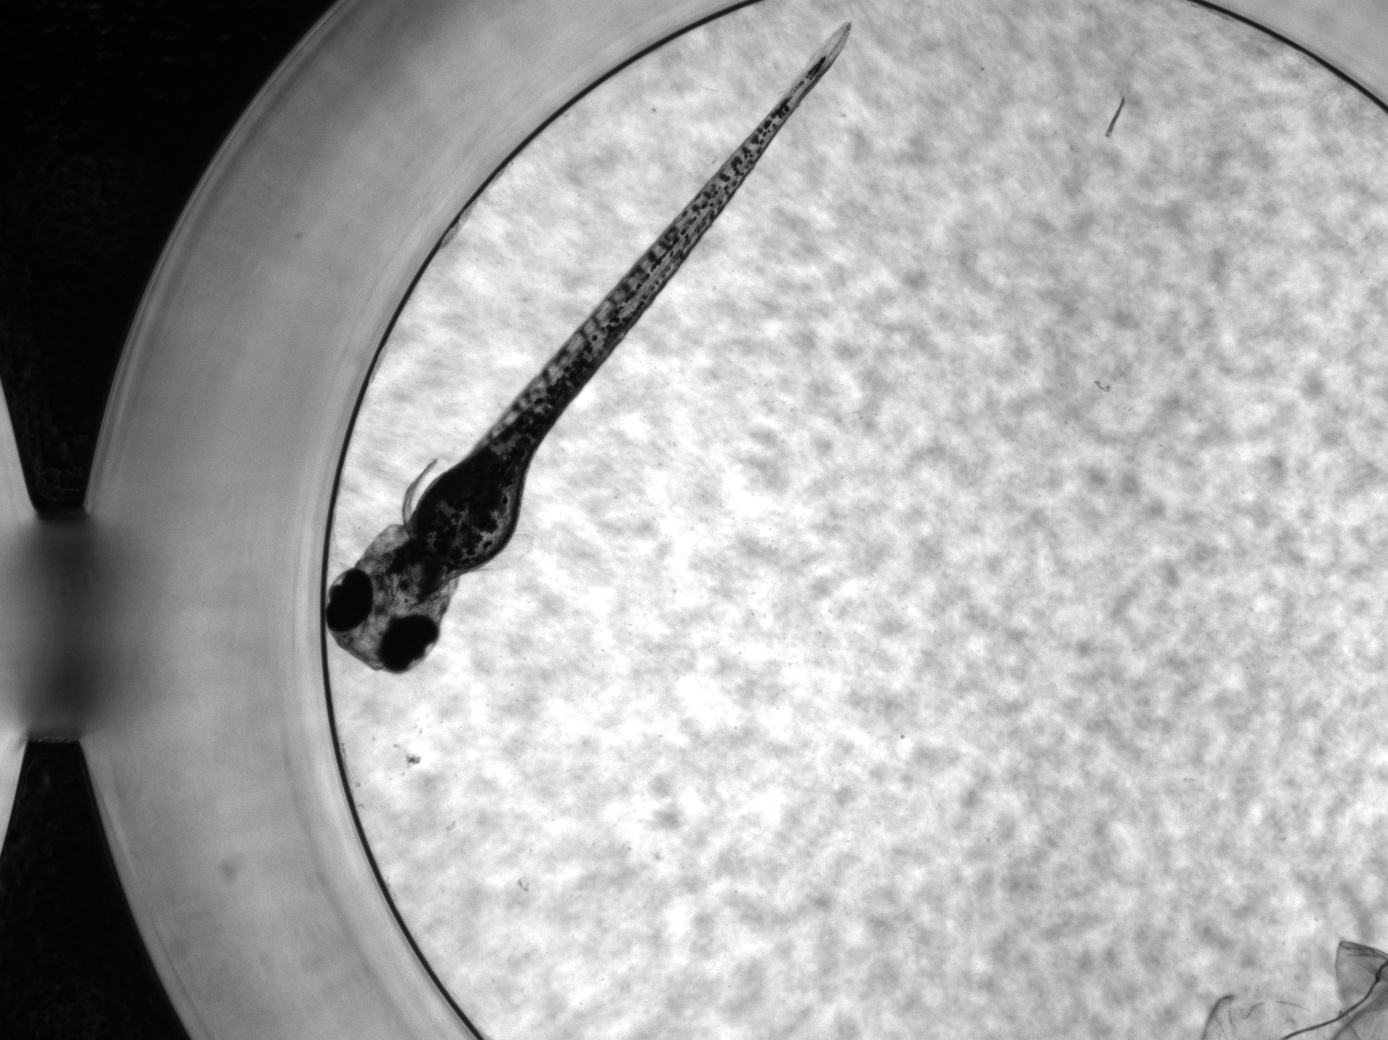embryo: (324, 19, 851, 673)
eye: (378, 613, 438, 674), (327, 567, 373, 631)
yolksac: (413, 463, 523, 569)
